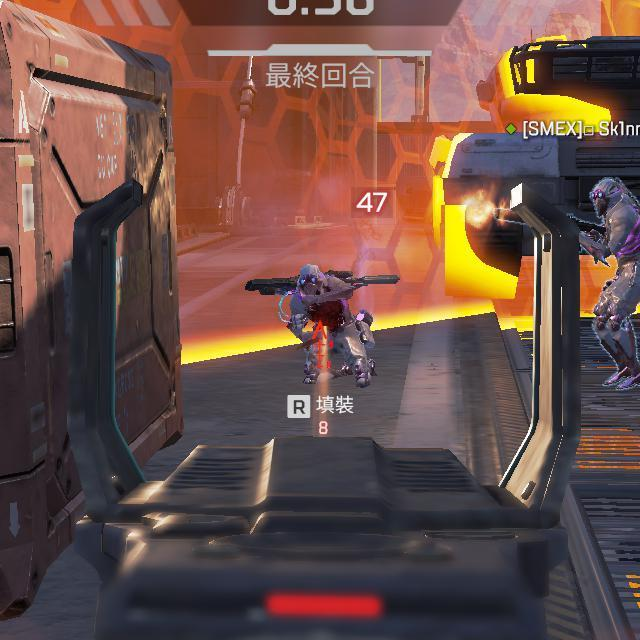avatar: (285, 260, 380, 390), (585, 172, 640, 395)
